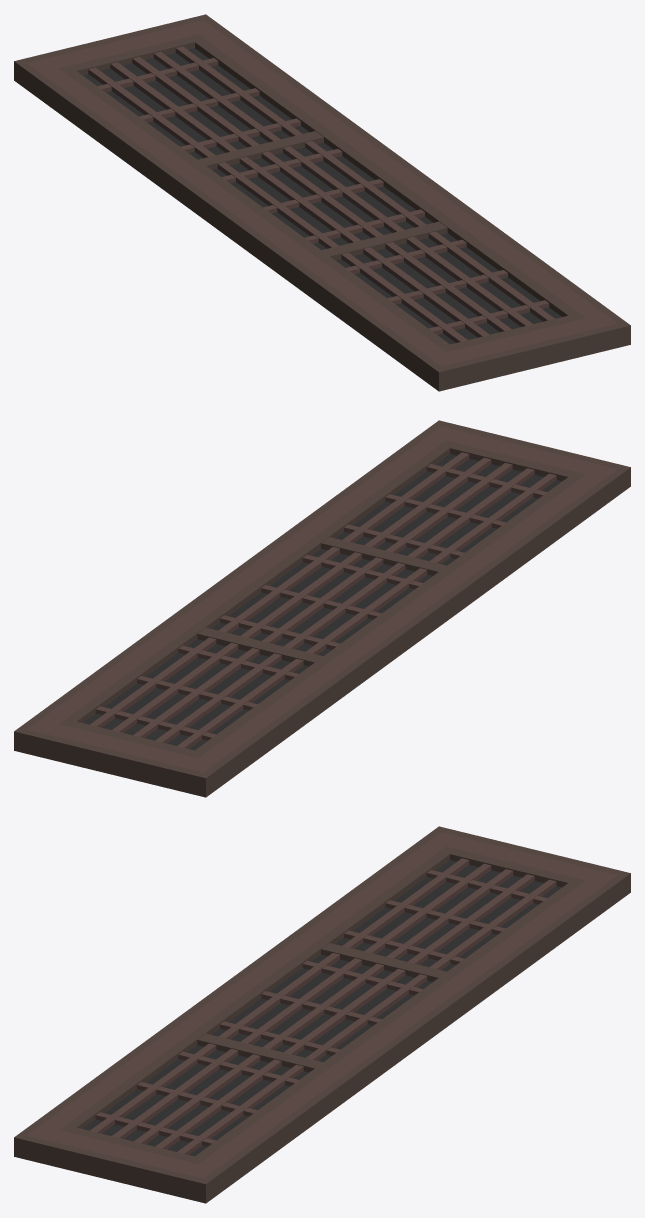
The model's file is Grate_2_C.fbx.
The picture shows the model from 3 angles, top to bottom: view 1: azimuth 30°, elevation 25°; view 2: azimuth 150°, elevation 25°; view 3: azimuth 330°, elevation 25°; orthographic projection.
Parts seen in each view (by area): view 1: Grate_2_C; view 2: Grate_2_C; view 3: Grate_2_C.
Part boxes in pixels (box(x1,y1,x2,y2)): Grate_2_C: box(14, 14, 630, 391); Grate_2_C: box(14, 420, 630, 797); Grate_2_C: box(14, 826, 630, 1203).
Bounding box in the file's own units: 37.9 × 3.65 × 145.
